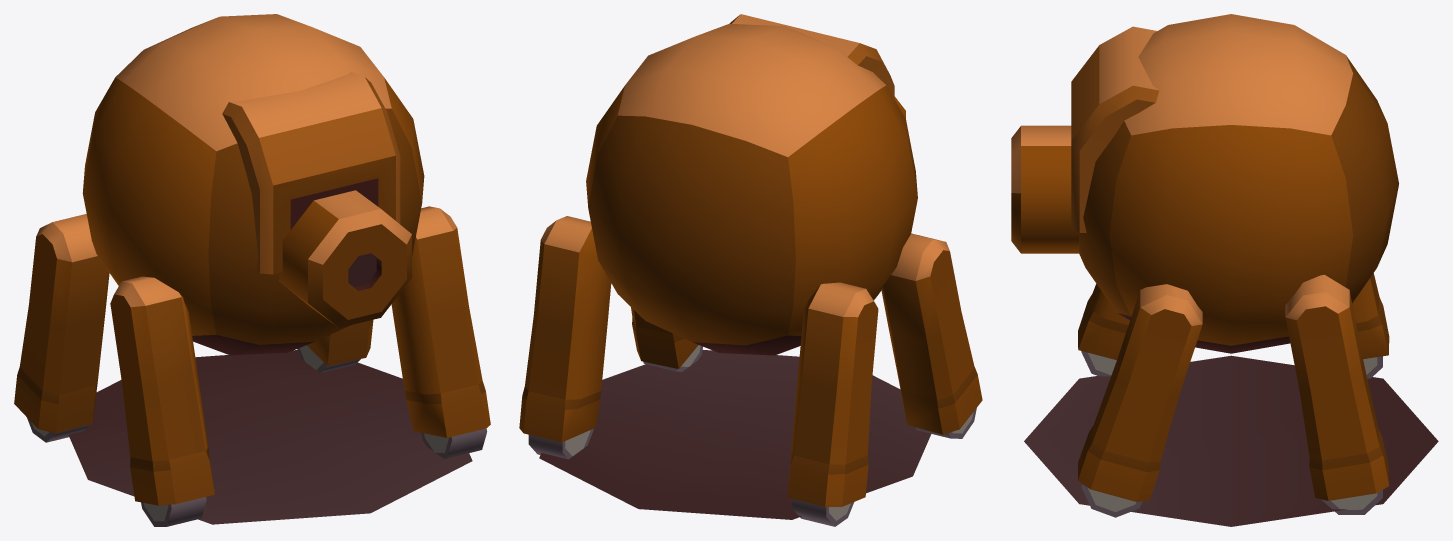
The model's file is NeoTankMesh.UmberWilds.glb.
The picture shows the model from 3 angles, left to right: view 1: azimuth 30°, elevation 25°; view 2: azimuth 150°, elevation 25°; view 3: azimuth 270°, elevation 25°; orthographic projection. The views are drawn at different scales.
Parts seen in each view (by area): view 1: NeoTankMesh.UmberWilds; view 2: NeoTankMesh.UmberWilds; view 3: NeoTankMesh.UmberWilds.
Part boxes in pixels (x1=…): NeoTankMesh.UmberWilds: x1=14, y1=14, x2=490, y2=526; NeoTankMesh.UmberWilds: x1=519, y1=14, x2=982, y2=526; NeoTankMesh.UmberWilds: x1=1011, y1=14, x2=1438, y2=526.
Bounding box in the file's own units: 2.03 × 2.26 × 2.14.
Materials: 1 (1 with a texture image).
